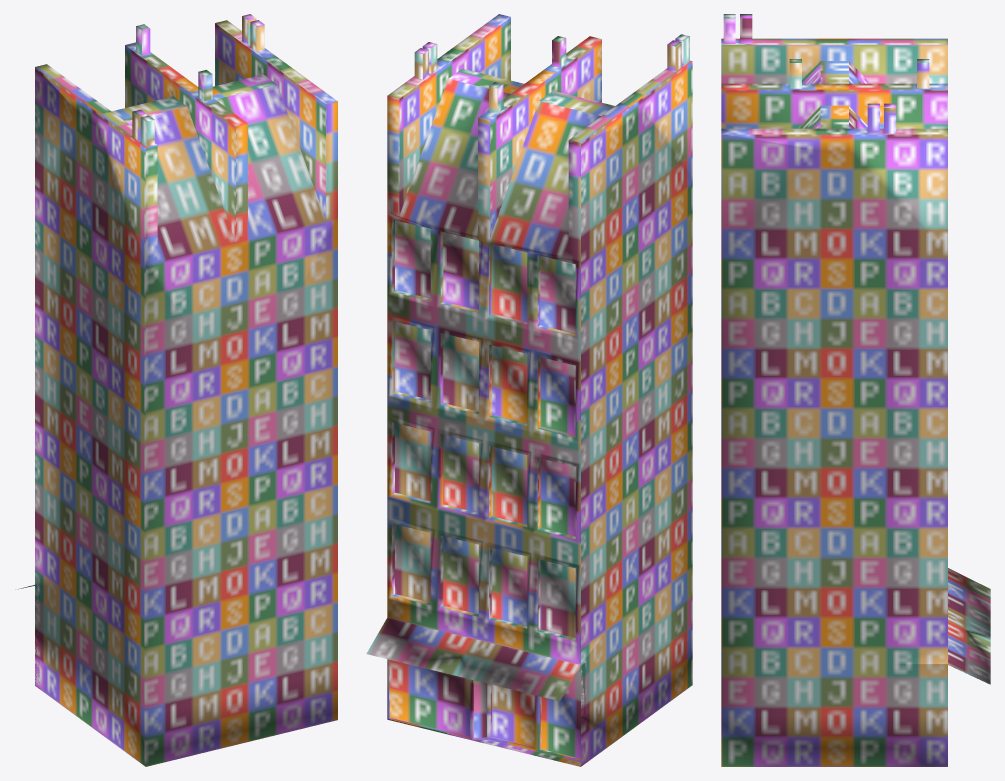
Rendered from building_side_01.obj.
3 views of the same model, side by side, from view 1: azimuth 30°, elevation 25°; view 2: azimuth 150°, elevation 25°; view 3: azimuth 270°, elevation 25° (orthographic). The views are drawn at different scales.
Visible parts, largest first — view 1: Cube1; view 2: Cube1; view 3: Cube1.
Part boxes in pixels (x1,y1,x2,y2): Cube1: (15,14,337,766); Cube1: (366,14,692,766); Cube1: (721,14,990,766).
Bounding box in the file's own units: 8 × 25.63 × 9.5.
1 material, 1 textured.
